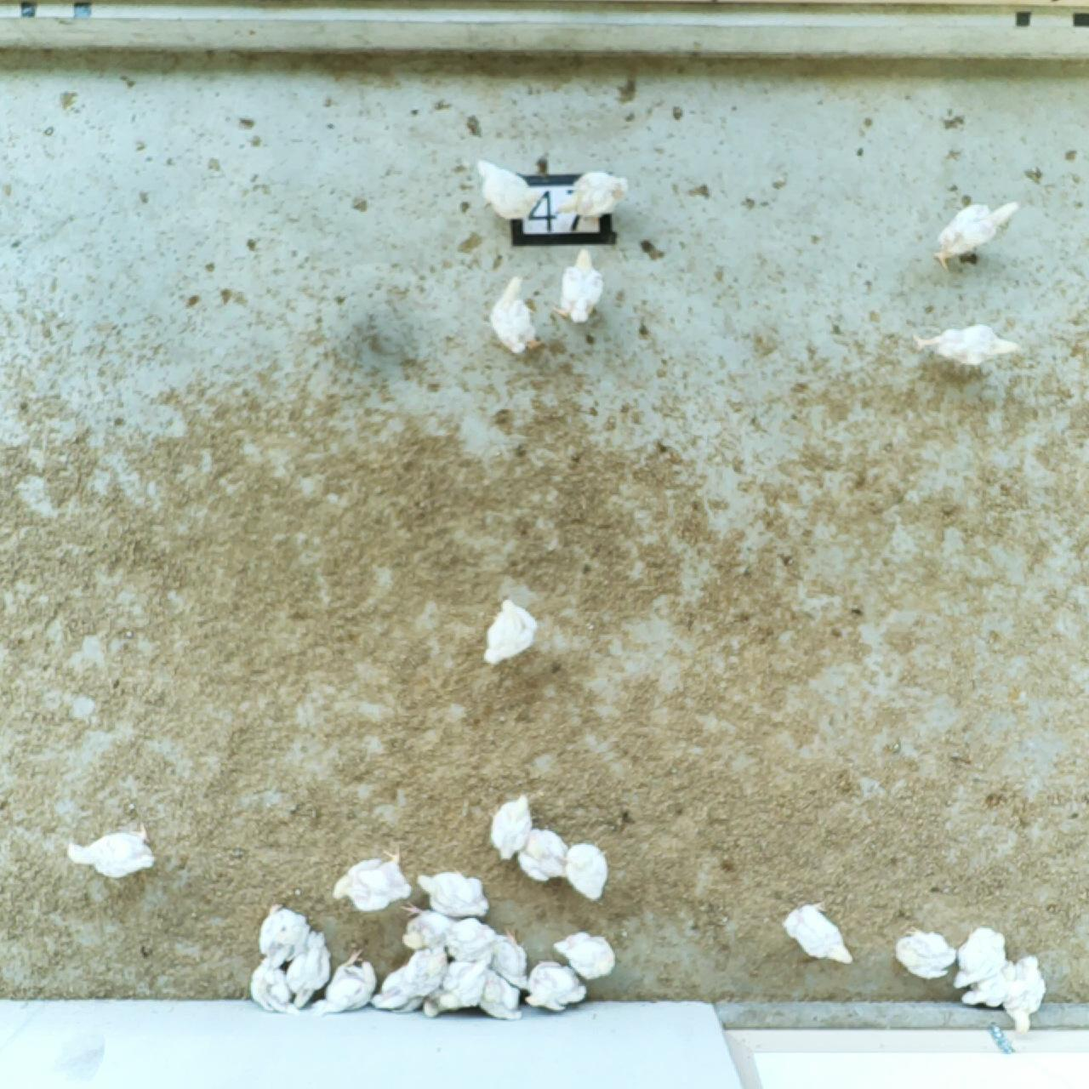chicken: (54, 826, 166, 878), (934, 204, 1023, 267), (774, 901, 852, 970), (332, 851, 413, 912), (917, 326, 1028, 367), (478, 598, 540, 668), (473, 155, 539, 220), (1000, 957, 1052, 1039), (488, 277, 539, 360), (413, 868, 489, 919), (553, 931, 626, 984), (955, 921, 1007, 993), (319, 955, 378, 1016), (528, 954, 589, 1012), (555, 249, 603, 322), (562, 846, 619, 904), (893, 928, 955, 980), (288, 936, 334, 1006), (517, 829, 574, 885), (560, 174, 629, 220), (260, 904, 311, 964), (487, 795, 534, 860), (249, 952, 298, 1012), (444, 956, 498, 1008), (398, 912, 459, 953), (476, 966, 523, 1019), (490, 928, 528, 989), (403, 945, 449, 995), (375, 961, 420, 1010), (453, 915, 500, 961), (961, 969, 1011, 1008), (417, 984, 452, 1019)
